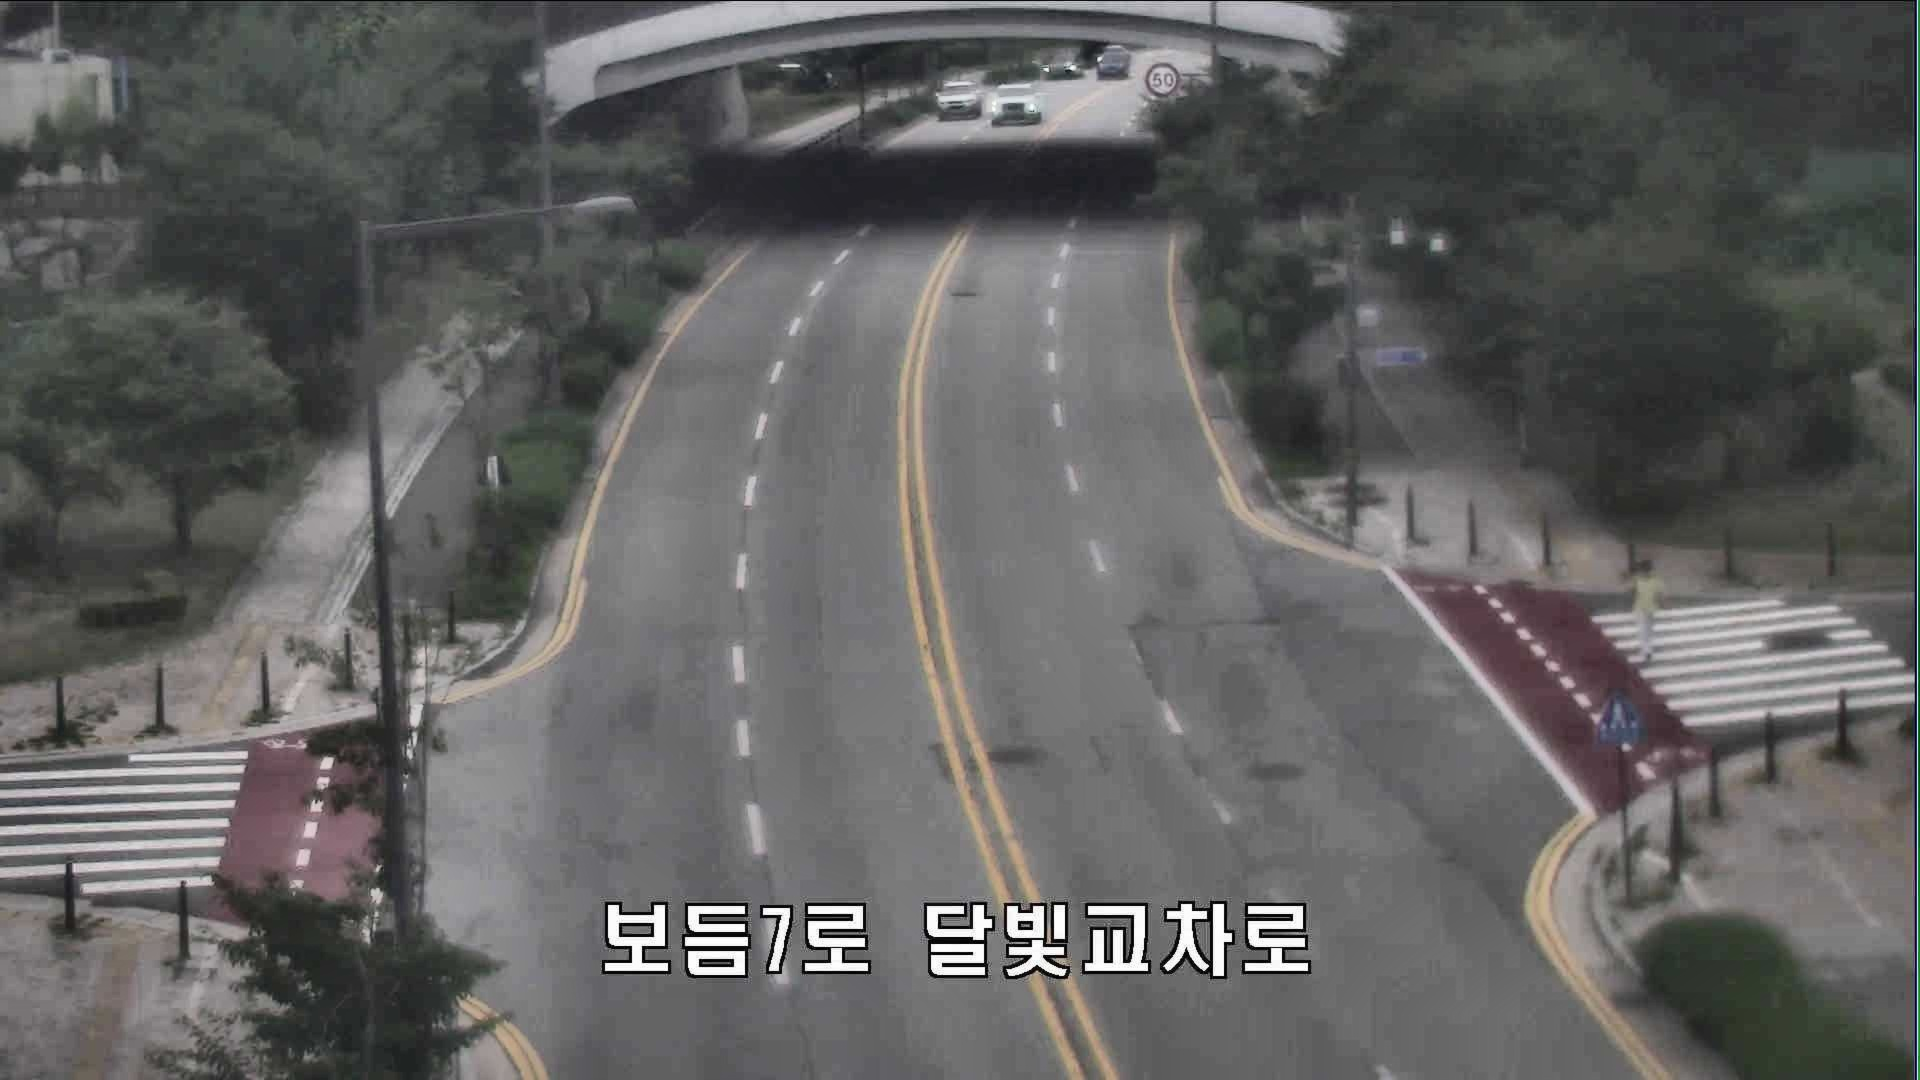crosswalk: (1619, 555, 1665, 665)
